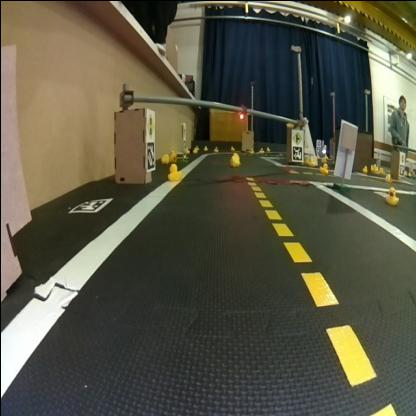Duckie: (168, 162, 180, 178), (385, 186, 396, 202), (228, 152, 239, 166), (319, 163, 327, 171), (160, 153, 166, 161), (192, 147, 198, 155), (202, 144, 208, 152), (214, 145, 219, 153), (169, 152, 175, 158), (306, 157, 312, 163), (362, 164, 366, 172)
Intersection sign: (290, 128, 302, 144)
QR code: (71, 196, 110, 210), (145, 142, 154, 170), (290, 144, 302, 160)
Signal sign: (146, 111, 152, 139)
Traffic light: (238, 104, 245, 118)
